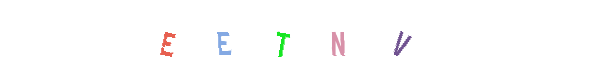E: (126, 0, 206, 80), (242, 0, 322, 80)
N: (262, 0, 342, 80)
T: (259, 0, 339, 80)
V: (361, 0, 441, 80)
